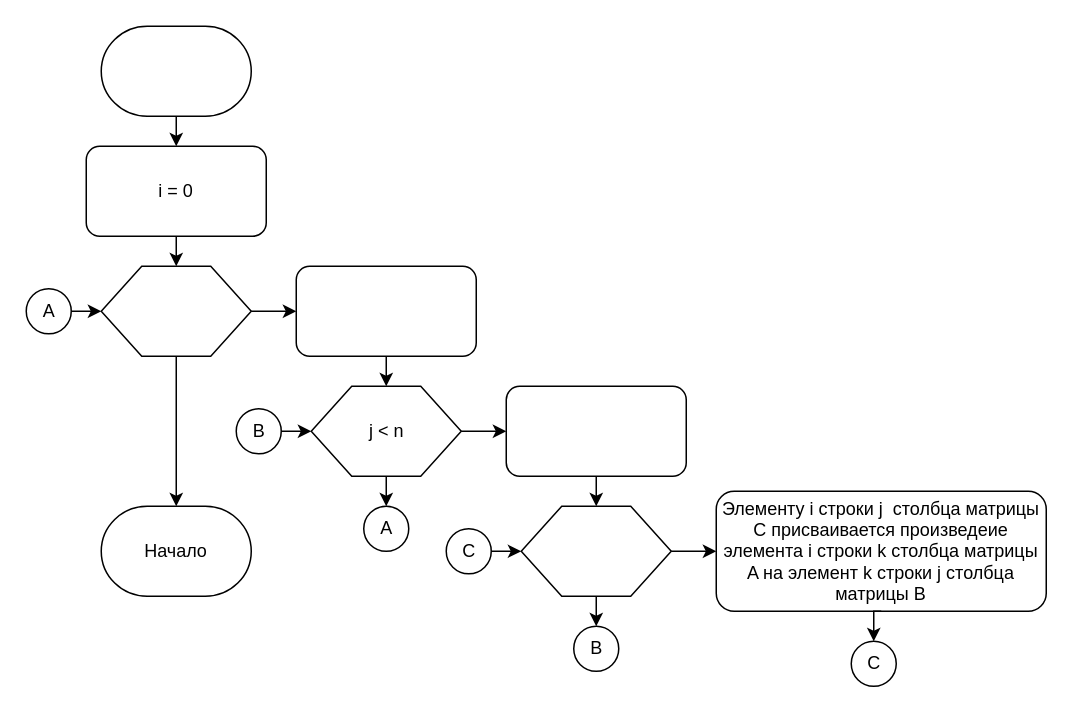
This 1073x713 diagram has some shape labels left out. Here are the shapes that lost their labels. From the top down, the centre of each, then its label:
At (x=175, y=70): "Конец".
At (x=175, y=310): "i < n".
At (x=385, y=310): "j = 0".
At (x=595, y=430): "k = 0".
At (x=595, y=550): "k < n".
